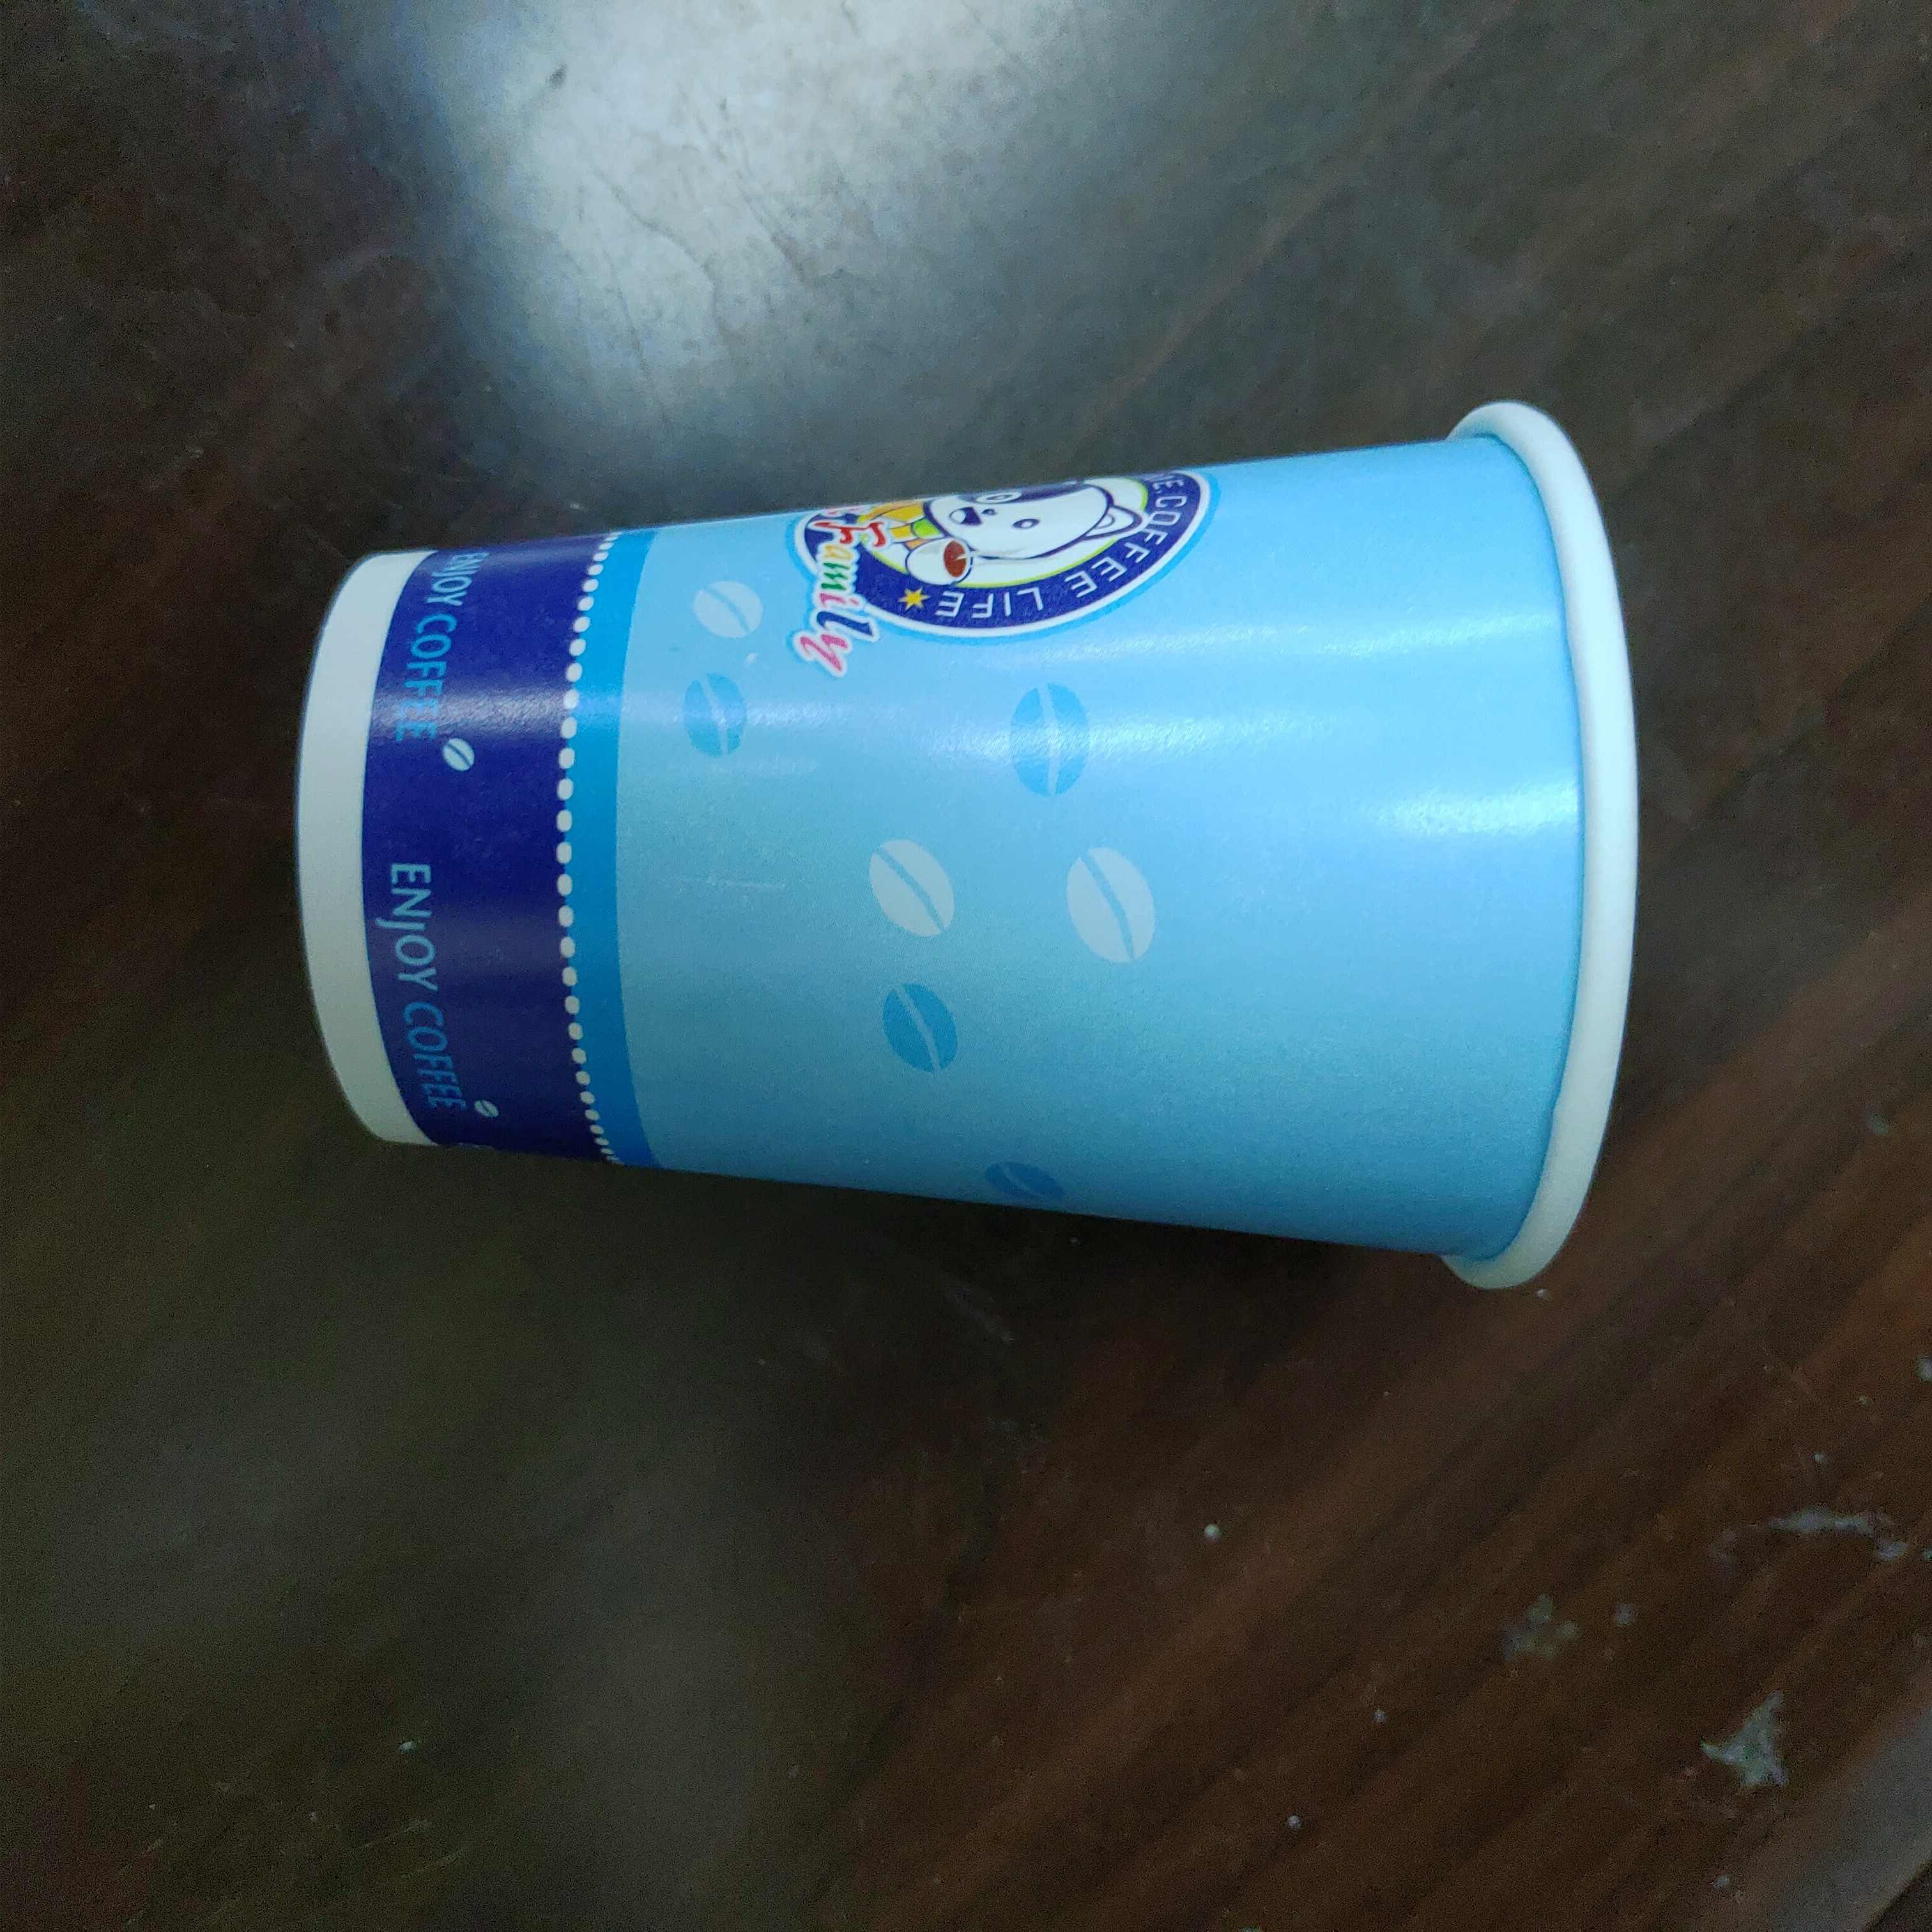Paper: (276, 379, 1645, 1341)
